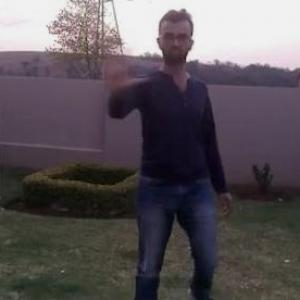follow_hand: (98, 40, 148, 92)
